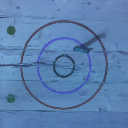Axe Tip: (79, 47, 85, 49)
